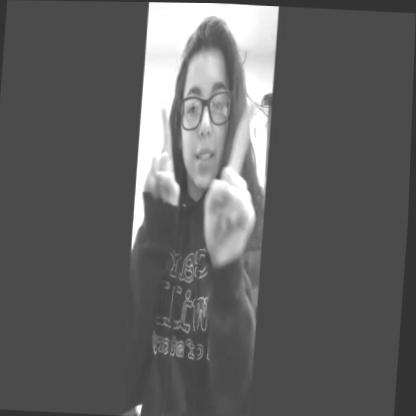NiceToMeetYou: (135, 92, 264, 293)
